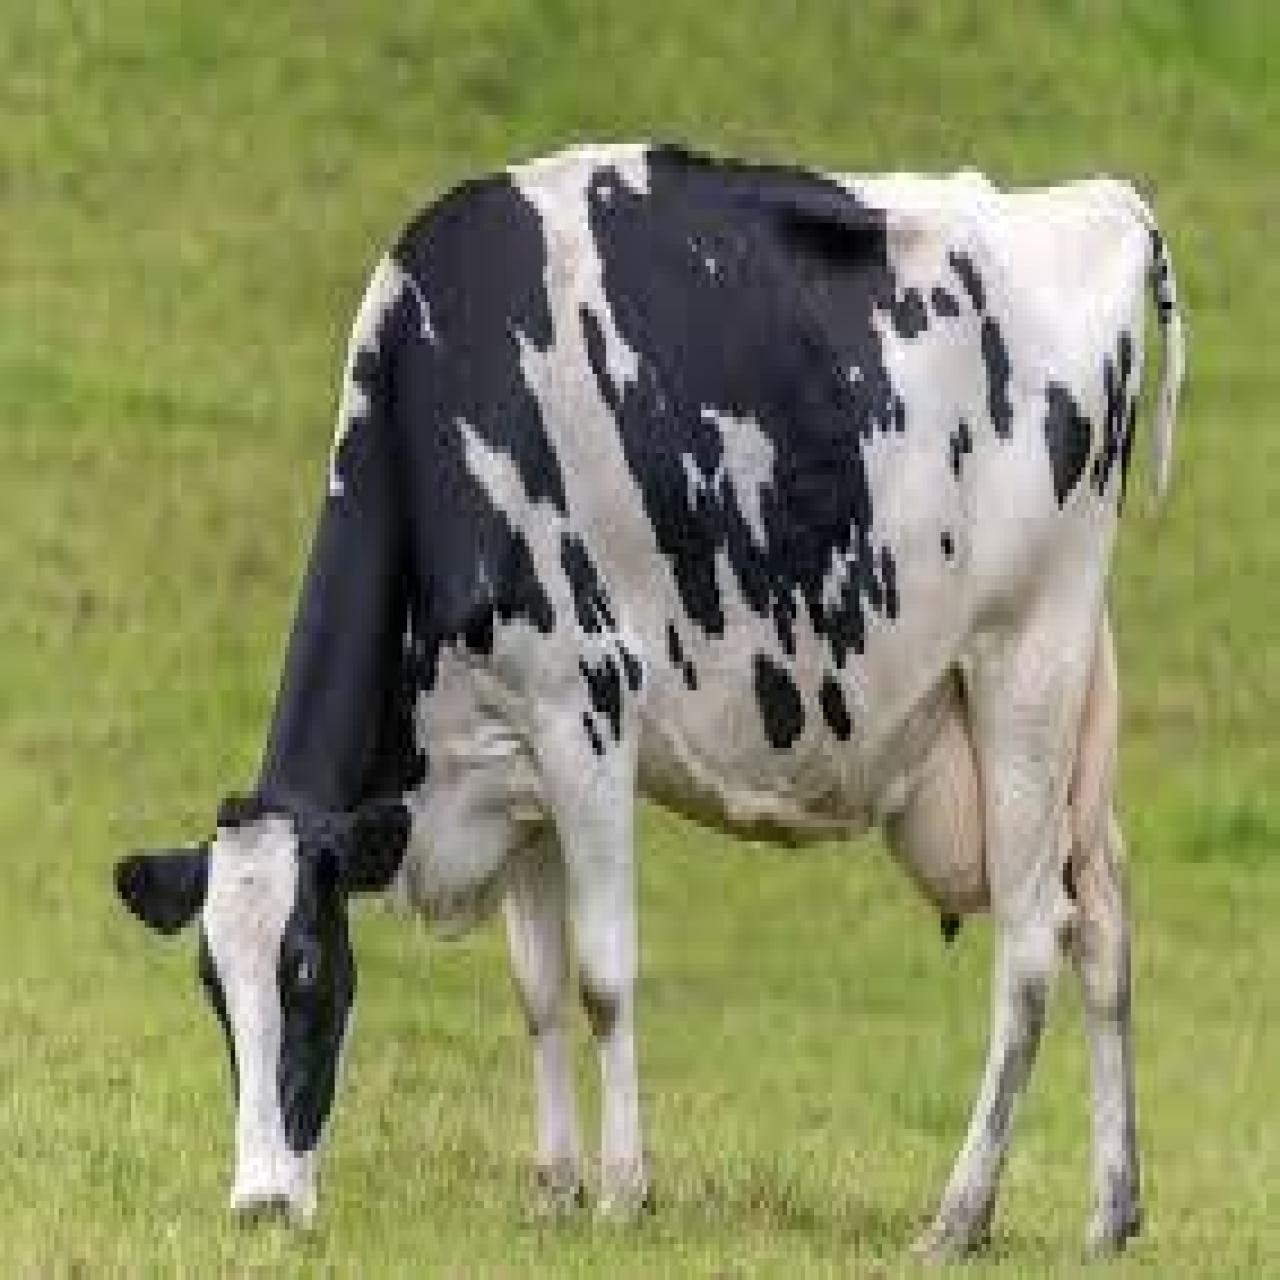cow: (110, 136, 1187, 1273)
